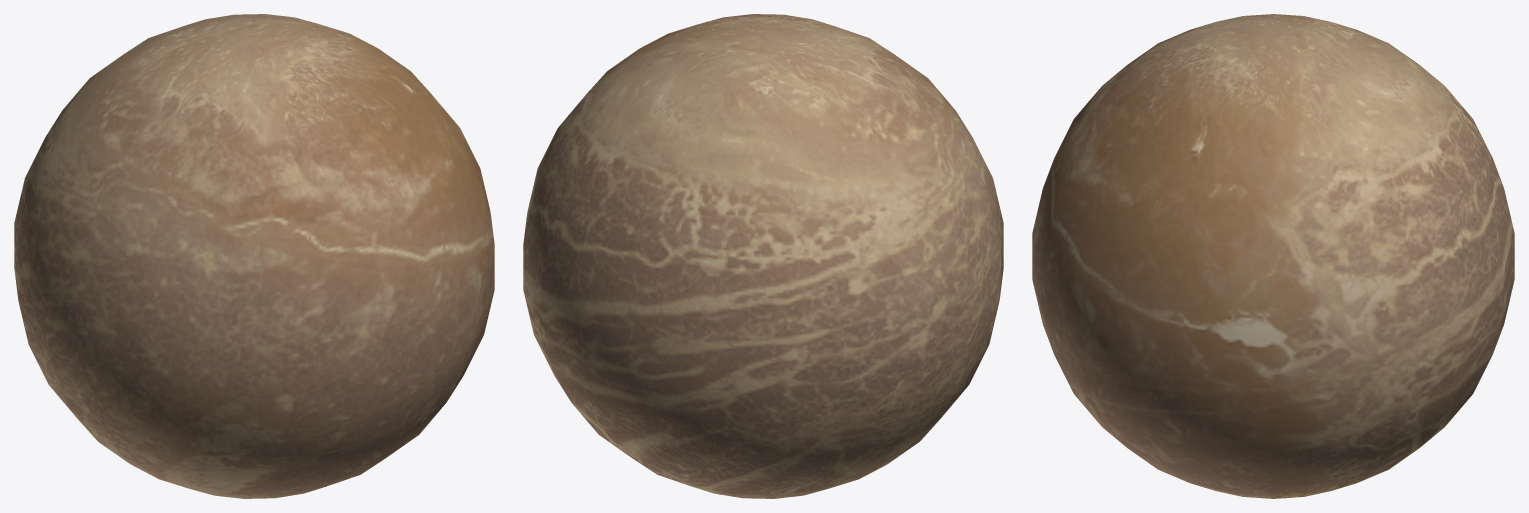
The model's file is AsteroidP.obj.
3 renders of one model, left to right at view 1: azimuth 30°, elevation 25°; view 2: azimuth 150°, elevation 25°; view 3: azimuth 270°, elevation 25°, orthographic.
Bounding box in the file's own units: 1.99 × 2 × 1.99.
Materials: 1 (1 with a texture image).
